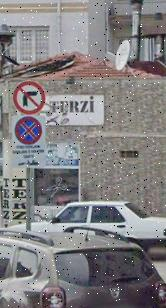rightturnsareforbidden: (14, 81, 44, 115)
